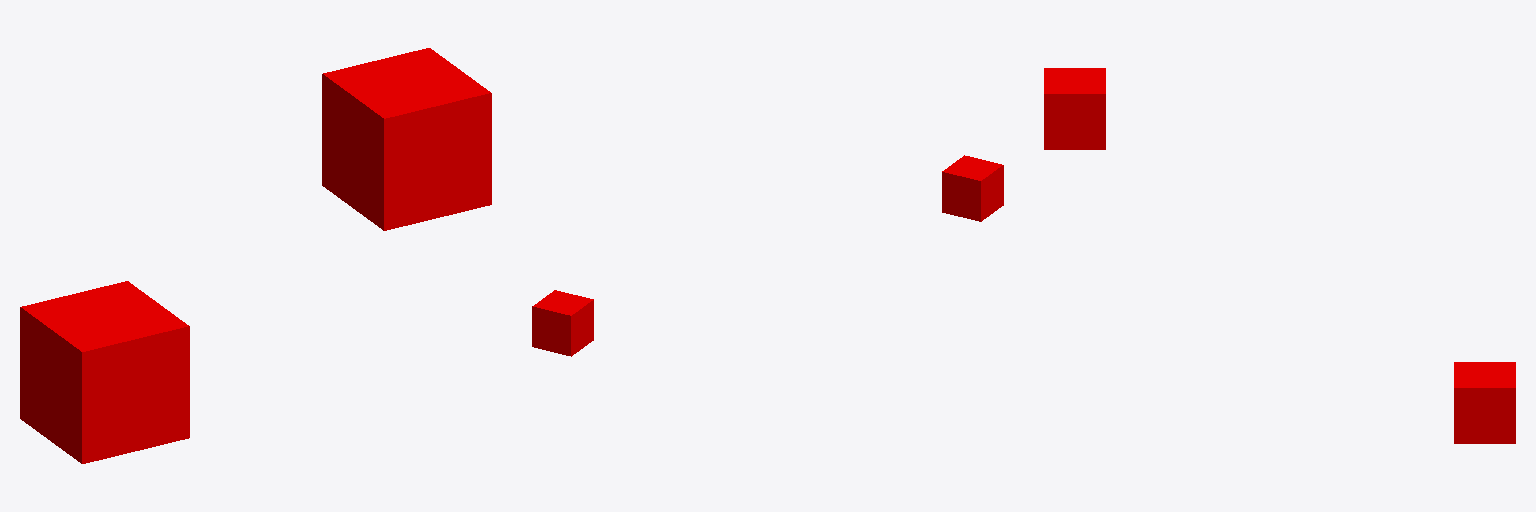
The robot description file, URDF, robot "target":
<?xml version="1.0" ?>
<robot name="target">
    <link name="target1">
        <inertial>
            <origin rpy="0 0 0" xyz="0 0 0"/>
            <mass value="0"/>
            <inertia ixx="0" ixy="0" ixz="0" iyy="0" iyz="0" izz="0"/>
          </inertial>
        <visual>
        <origin rpy="0 0 0" xyz="-2 -2.5 0.15"/>
         <geometry>
            <box size="0.3 0.3 0.3"/>
         </geometry>
         <material name="red">
            <color rgba="1 0 0 1"/>
          </material> 
        </visual> 
        <collision>
            <origin rpy="0 0 0" xyz="-2 -2.5 0.15" />
            <geometry>
              <box size="0.3 0.3 0.3"/>
            </geometry>
          </collision>  
    </link>

    <link name="target2">
        <inertial>
            <origin rpy="0 0 0" xyz="0 0 0"/>
            <mass value="0"/>
            <inertia ixx="0" ixy="0" ixz="0" iyy="0" iyz="0" izz="0"/>
          </inertial>
        <visual>
        <origin rpy="0 0 0" xyz="-4 -4.5 0.8"/>
         <geometry>
            <box size="0.3 0.3 0.3"/>
         </geometry>
         <material name="red">
            <color rgba="1 0 0 1"/>
          </material> 
        </visual> 
        <collision>
            <origin rpy="0 0 0" xyz="-4 -4.5 0.8" />
            <geometry>
              <box size="0.3 0.3 0.3"/>
            </geometry>
          </collision>  
    </link>

    <joint name="joint_name" type="fixed">
        <parent link="target1"/>
        <child link="target2"/>
        
    </joint>
</robot>

--- Facts derived from the render (not from the file) ---
The picture shows the robot from 3 angles, left to right: view 1: azimuth 30°, elevation 25°; view 2: azimuth 150°, elevation 25°; view 3: azimuth 270°, elevation 25°; orthographic projection.
Robot: target — 2 links, 1 joints (1 fixed); root link target1; default pose: every joint at zero.
Links seen in each view (by area): view 1: target1, target2; view 2: target1, target2; view 3: target1, target2.
Boxes of the visible links, box(x1,y1,x2,y2) form: target1: box(322, 48, 491, 230); target2: box(20, 281, 189, 463); target1: box(532, 290, 593, 356); target2: box(942, 155, 1003, 221); target1: box(1454, 362, 1515, 443); target2: box(1044, 68, 1105, 149).
Size in the robot's own frame: 2.3 by 2.3 by 0.95 metres.
Geometry: primitives only (box / cylinder / sphere), no mesh files.